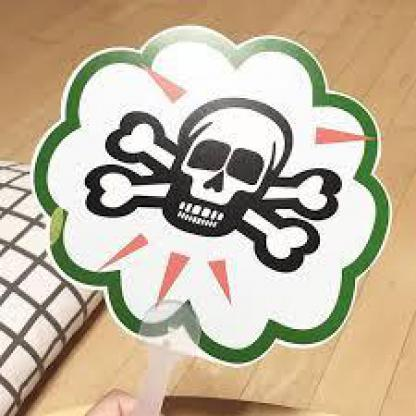skull: (81, 96, 345, 277)
